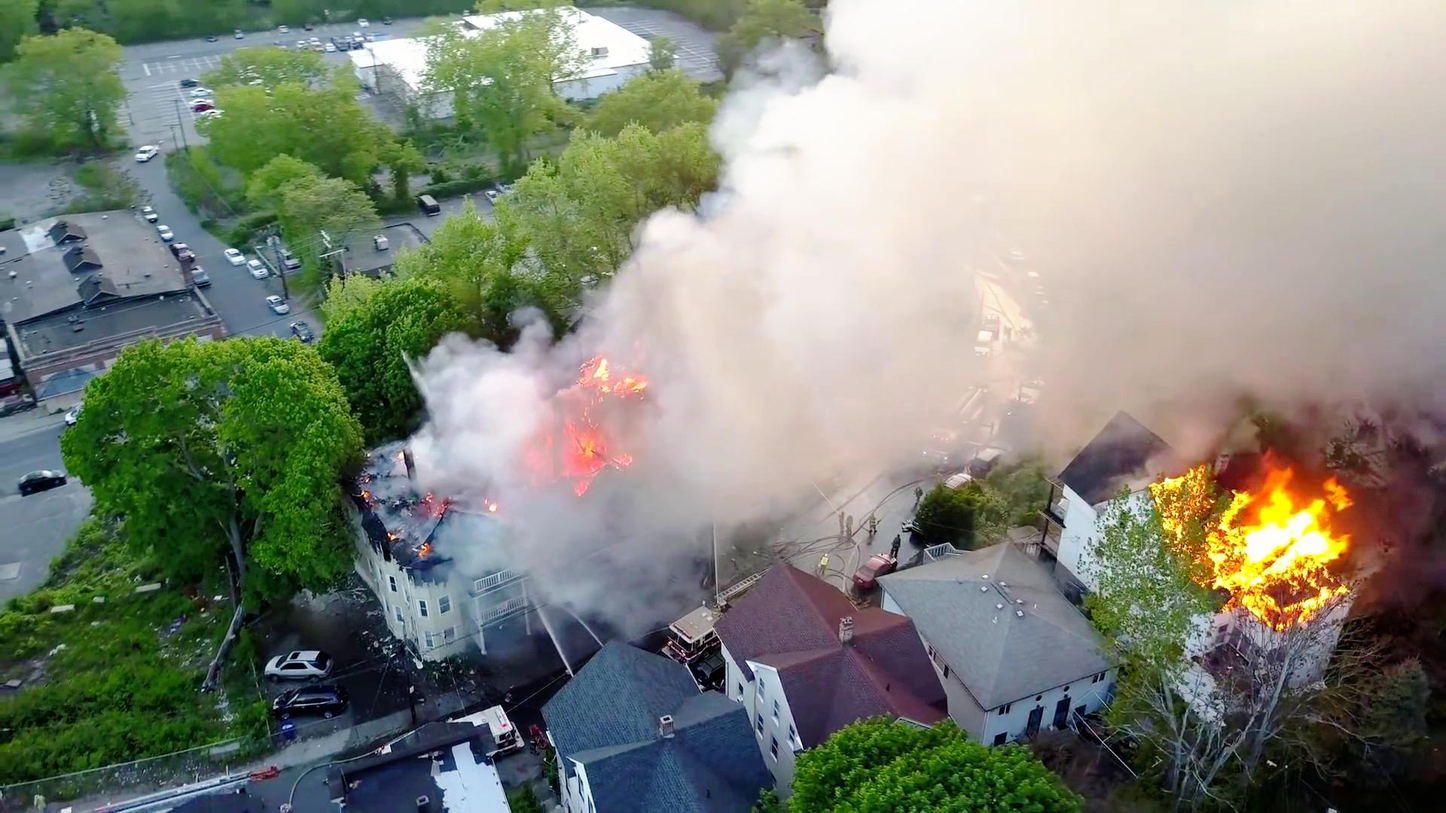fire: (1164, 477, 1340, 613)
smoke: (700, 271, 986, 464)
